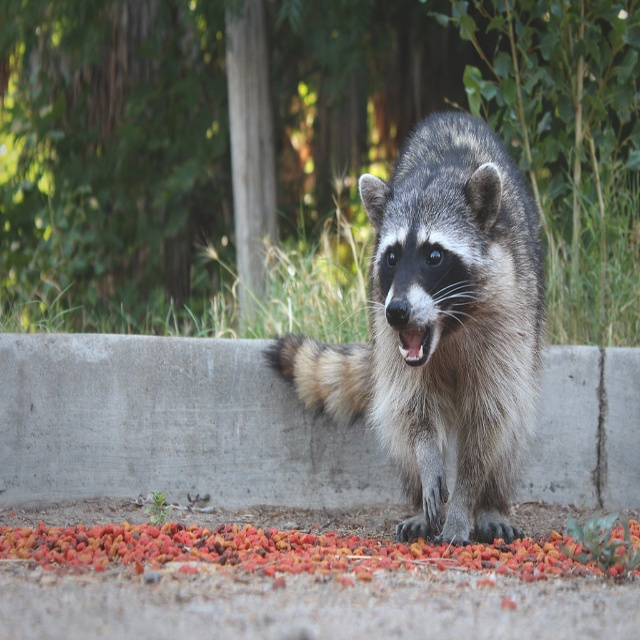Raccoon: (260, 111, 556, 545)
